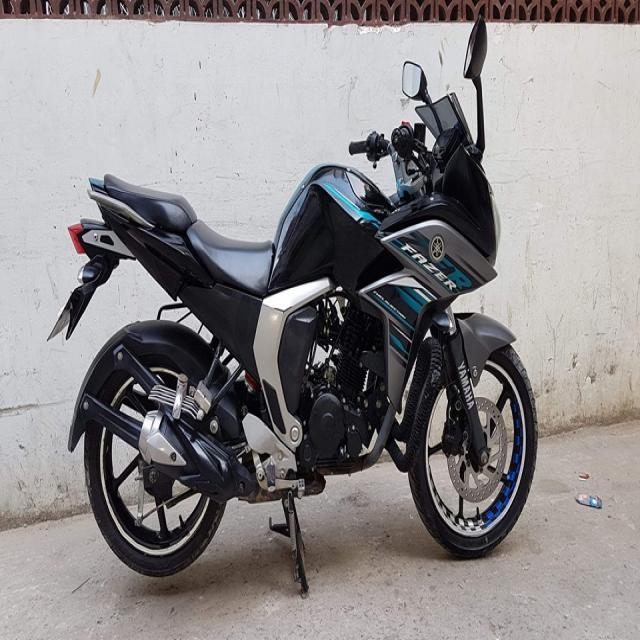Motorbike: (49, 6, 546, 601)
